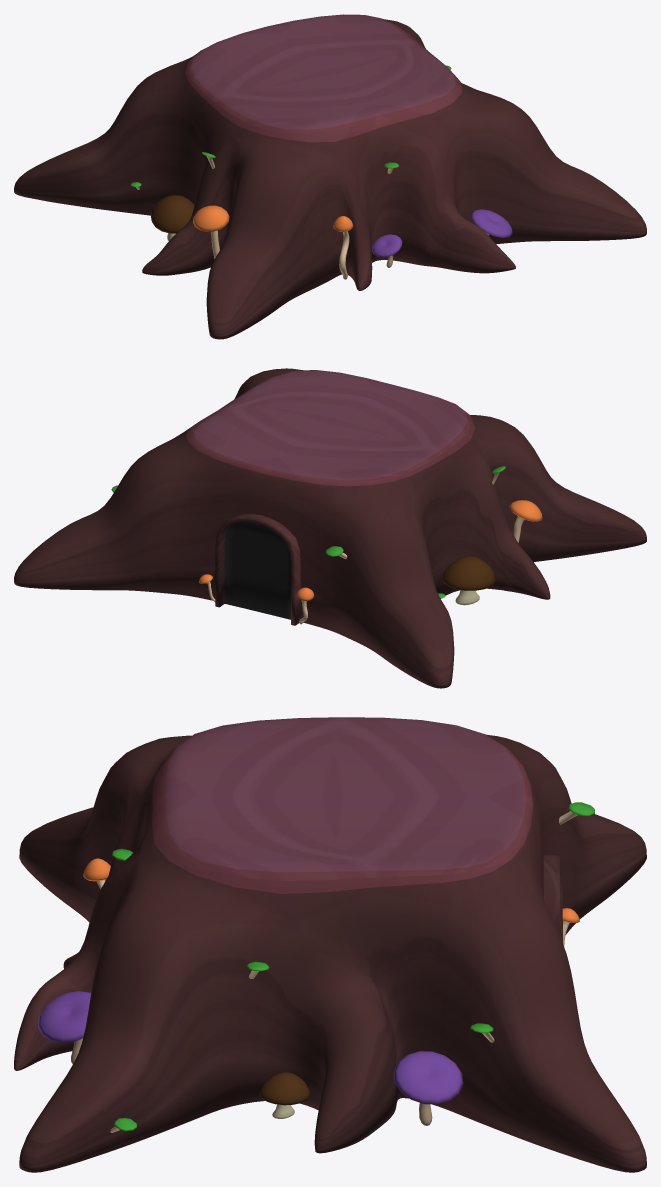
Rendered from EdificioTropas.fbx.
3 views of the same model, one above another, from view 1: azimuth 30°, elevation 25°; view 2: azimuth 150°, elevation 25°; view 3: azimuth 270°, elevation 25° (orthographic). The views are drawn at different scales.
Visible parts, largest first — view 1: ToconArbol, seta.003, Seta4.001, seta, seta.002, Seta1.001; view 2: ToconArbol, Puerta, seta.003, Seta4.001; view 3: ToconArbol, seta.001, seta, seta.004, Puerta.
Part boxes in pixels (left/top/right/bottom): ToconArbol: left=14, top=14, right=646, bottom=339; seta.003: left=151, top=195, right=194, bottom=240; Seta4.001: left=193, top=205, right=229, bottom=259; seta: left=470, top=209, right=512, bottom=237; seta.002: left=371, top=234, right=402, bottom=267; Seta1.001: left=333, top=216, right=353, bottom=279; ToconArbol: left=14, top=368, right=646, bottom=688; Puerta: left=215, top=513, right=300, bottom=625; seta.003: left=442, top=556, right=495, bottom=605; Seta4.001: left=509, top=500, right=542, bottom=542; ToconArbol: left=14, top=717, right=646, bottom=1172; seta.001: left=393, top=1051, right=463, bottom=1125; seta: left=38, top=991, right=91, bottom=1064; seta.004: left=259, top=1072, right=310, bottom=1118; Puerta: left=543, top=855, right=562, bottom=943.
Size of the model in its own units: 39.15 by 47.24 by 14.62.
11 materials, 5 textured.
